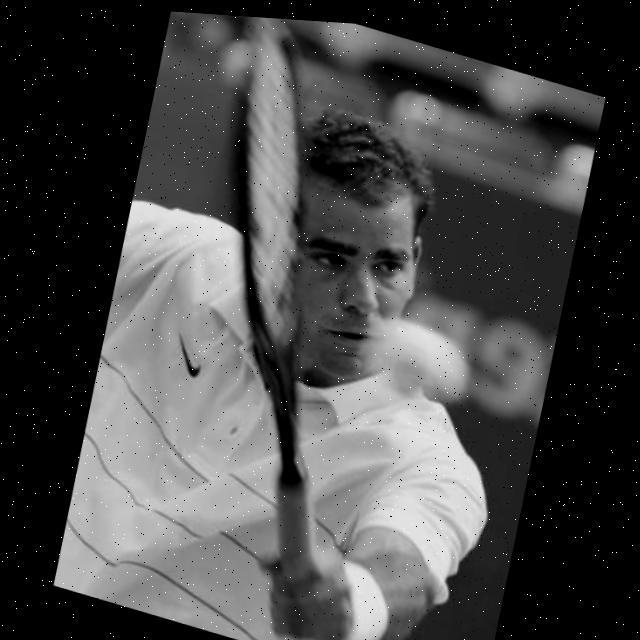face: (256, 146, 436, 403)
